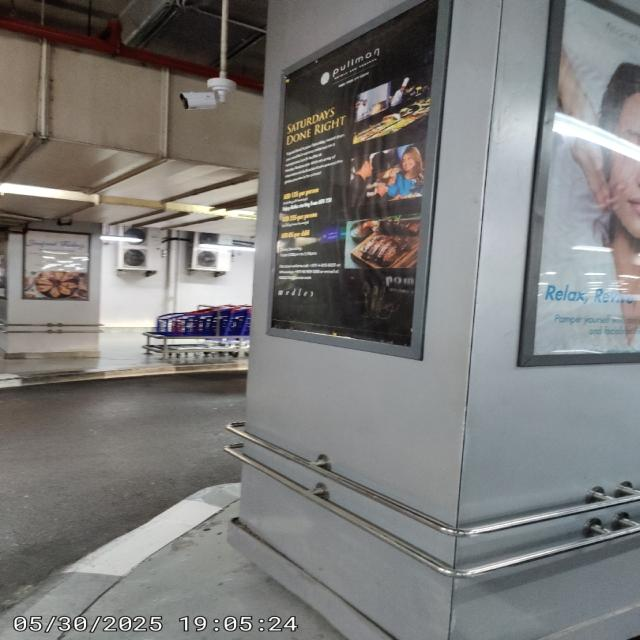poster: (266, 0, 441, 348)
